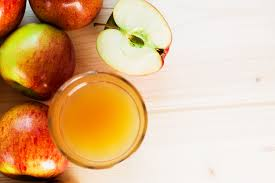apple: (4, 104, 67, 177), (7, 27, 75, 94), (29, 2, 101, 32)
damaged_apple: (95, 1, 173, 72)
